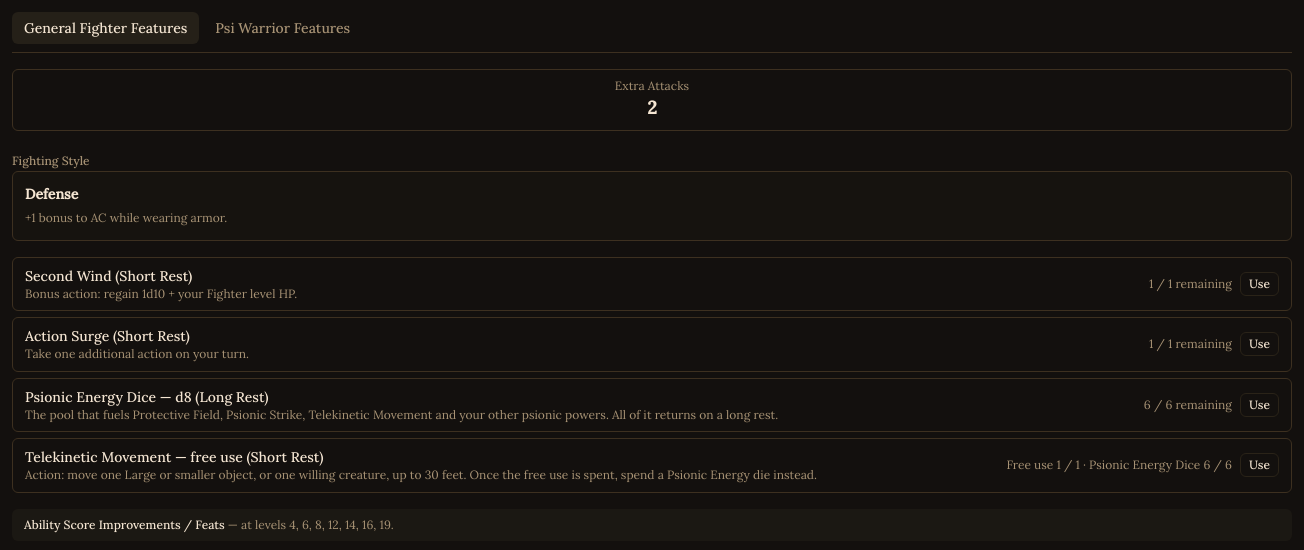
Test: ClassSheet — rest resource descriptions › shows the Psionic Energy pool card under the Psi Warrior subclass tab
Click the button "Psi Warrior Features".
click(283, 28)  # box [203,12,362,44]
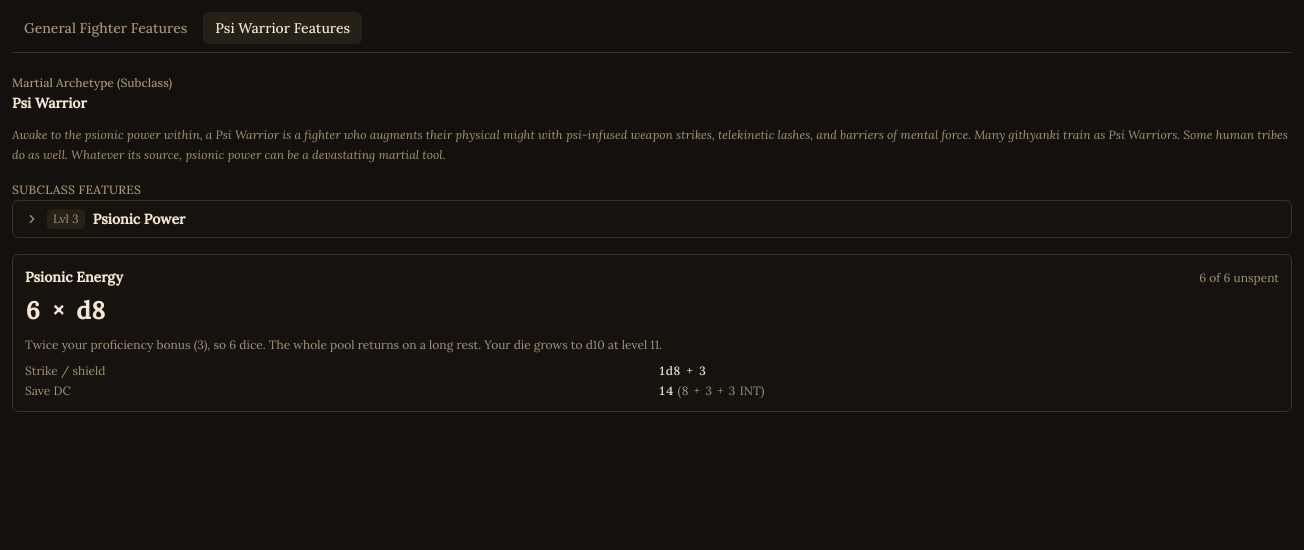
Expected: the text with test id "psionic-energy-pool" reads "6 × d8", [25,295,106,326]
